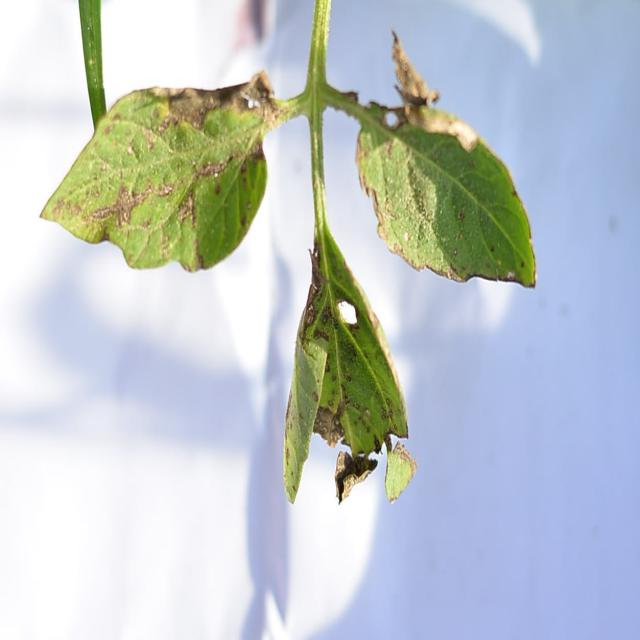infected: (28, 64, 284, 276), (282, 240, 416, 528), (359, 108, 536, 287)
